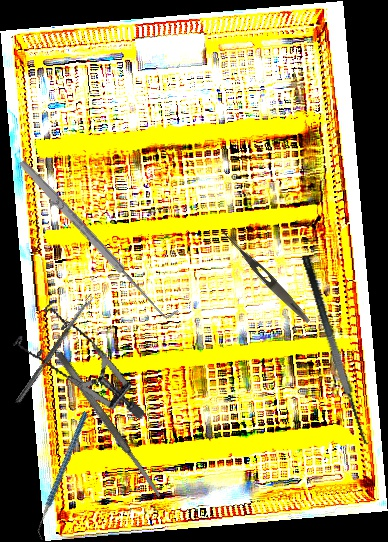Chopper: (2, 411, 125, 541)
Dressing Forceps: (217, 227, 313, 326)
Hook Surgical: (16, 152, 179, 326)
Spatula Surgical: (299, 250, 382, 448), (55, 350, 163, 500)
Speculum: (3, 284, 147, 450)
Surgical Spoon: (14, 294, 95, 406)
